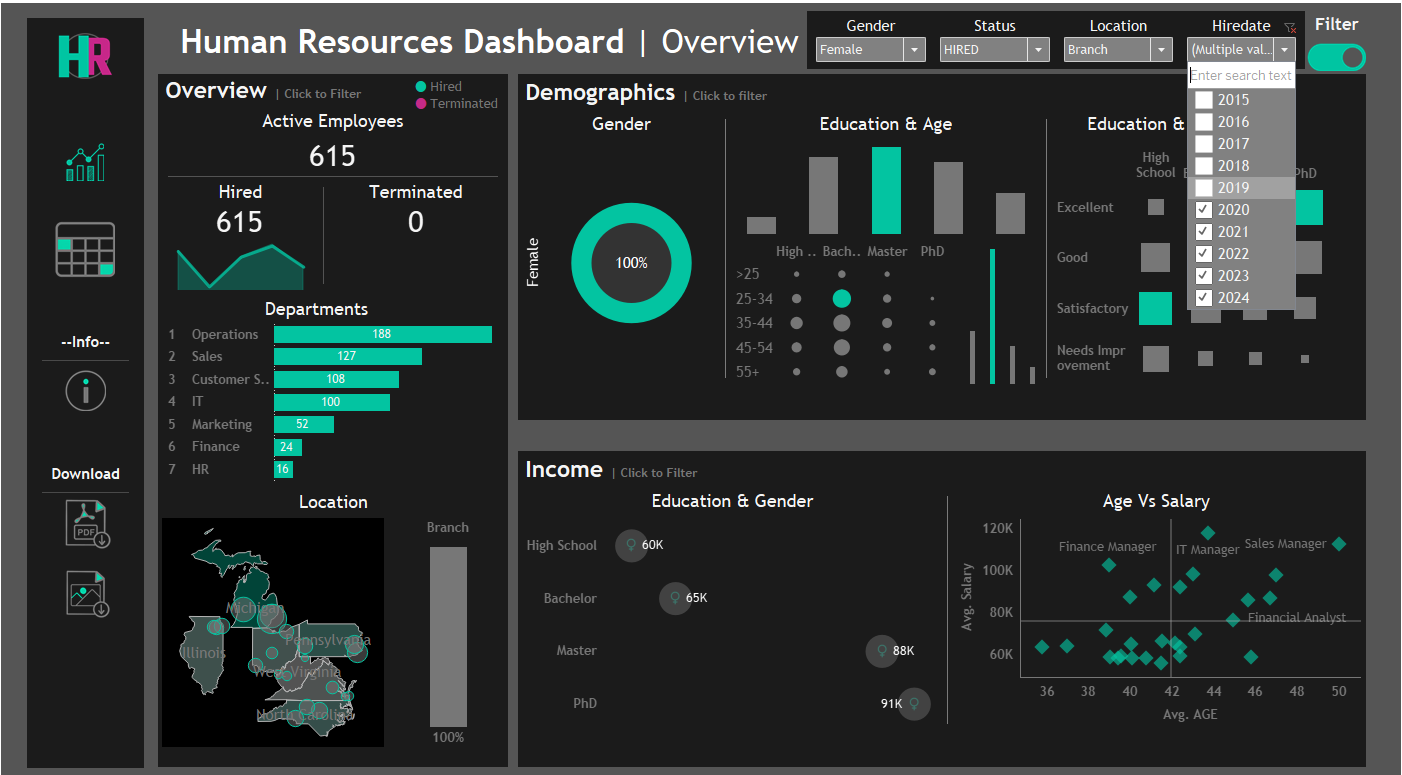

What the dashboard file says about the page in this screenshot:
{"tool":"tableau","page":{"name":"HR | Summary (3)","canvas":[1400,800],"ordinal":3},"visuals":[{"type":"blank","box":[7,7,130,393]},{"type":"text","box":[143,7,676,64]},{"type":"blank","box":[819,7,536,64]},{"type":"text","box":[149,77,352,32]},{"type":"text","box":[509,79,838,35]},{"type":"text","box":[149,109,352,29]},{"type":"text","box":[511,116,207,29]},{"type":"blank","box":[718,116,25,246]},{"type":"text","box":[743,116,261,29]},{"type":"blank","box":[1004,116,25,246]},{"type":"text","box":[1029,116,316,29]},{"type":"worksheet","title":"Active","mark":"Text","box":[149,138,352,41]},{"type":"worksheet","title":"Gender","mark":"Pie","rows":["Gender"],"cols":["Calculation_1937110846429085710","Calculation_1937110846429085710"],"box":[511,145,207,217]},{"type":"worksheet","title":"Age Group","mark":"Bar","rows":["Calculation_1937110846402056192"],"cols":["Calculation_1937110846440509456"],"box":[743,145,261,100]},{"type":"worksheet","title":"Education VS Performance","mark":"Square","rows":["Performance Rating"],"cols":["Education Level"],"box":[1029,145,316,217]},{"type":"blank","box":[149,179,352,25]},{"type":"text","box":[151,206,165,29]},{"type":"blank","box":[316,206,17,113]},{"type":"text","box":[333,206,166,29]},{"type":"worksheet","title":"HIRED","mark":"Text","box":[151,235,165,32]},{"type":"worksheet","title":"Terminated","mark":"Text","box":[333,235,166,32]},{"type":"worksheet","title":"Age VS Education","mark":"Pie","rows":["Calculation_1937110846440509456"],"cols":["Education Level"],"box":[743,245,152.5,117]},{"type":"worksheet","title":"Education Level","mark":"Bar","rows":["Calculation_1937110846402056192"],"cols":["Education Level"],"box":[895.5,245,108.5,117]},{"type":"worksheet","title":"Hired by Years","mark":"Line","rows":["Calculation_1937110846402056192","Calculation_1937110846402056192"],"cols":["Hiredate"],"box":[151,267,165,52]},{"type":"worksheet","title":"Terminated by Years","mark":"Line","rows":["Calculation_1937110846402326529","Calculation_1937110846402326529"],"cols":["Termdate"],"box":[333,267,166,52]},{"type":"blank","box":[149,321,118.7,25]},{"type":"text","box":[267.7,321,114.7,25]},{"type":"blank","box":[382.3,321,118.7,25]},{"type":"worksheet","title":"Departments","mark":"Bar","rows":["Calculation_1937110846415405062","Department"],"cols":["Calculation_1937110846402056192"],"box":[149,346,352,166]},{"type":"blank","box":[7,400,130,393]},{"type":"text","box":[509,415,838,35]},{"type":"text","box":[511,452,410.5,29]},{"type":"blank","box":[921.5,452,25,220]},{"type":"text","box":[946.5,452,398.5,29]},{"type":"worksheet","title":"Education VS Gender Level","mark":"Square","rows":["Education Level"],"cols":["Salary","Salary"],"box":[511,481,410.5,191]},{"type":"worksheet","title":"Age VS Salary","mark":"Shape","rows":["Salary"],"cols":["Calculation_1937110846439919631"],"box":[946.5,481,398.5,191]},{"type":"blank","box":[149,512,120,24]},{"type":"text","box":[269,512,112,24]},{"type":"blank","box":[381,512,120,24]},{"type":"worksheet","title":"MAP STATE","mark":"Automatic","box":[149,536,292,222]},{"type":"worksheet","title":"Location","mark":"Bar","rows":["Calculation_1937110846402056192"],"cols":["Calculation_1937110846422126599","Calculation1"],"box":[441,536,60,222]}]}

Visuals, with their boxes on the page's 1400x800 design canvas (x1, y1, x2, y2). These are canvas units, not pixel positions in the 1402x775 screenshot, which may show the page scaled, cropped or inside an application window:
blank: [x1=7, y1=7, x2=137, y2=400]
text: [x1=143, y1=7, x2=819, y2=71]
blank: [x1=819, y1=7, x2=1355, y2=71]
text: [x1=149, y1=77, x2=501, y2=109]
text: [x1=509, y1=79, x2=1347, y2=114]
text: [x1=149, y1=109, x2=501, y2=138]
text: [x1=511, y1=116, x2=718, y2=145]
blank: [x1=718, y1=116, x2=743, y2=362]
text: [x1=743, y1=116, x2=1004, y2=145]
blank: [x1=1004, y1=116, x2=1029, y2=362]
text: [x1=1029, y1=116, x2=1345, y2=145]
"Active" worksheet (Text marks): [x1=149, y1=138, x2=501, y2=179]
"Gender" worksheet (Pie marks): [x1=511, y1=145, x2=718, y2=362]
"Age Group" worksheet (Bar marks): [x1=743, y1=145, x2=1004, y2=245]
"Education VS Performance" worksheet (Square marks): [x1=1029, y1=145, x2=1345, y2=362]
blank: [x1=149, y1=179, x2=501, y2=204]
text: [x1=151, y1=206, x2=316, y2=235]
blank: [x1=316, y1=206, x2=333, y2=319]
text: [x1=333, y1=206, x2=499, y2=235]
"HIRED" worksheet (Text marks): [x1=151, y1=235, x2=316, y2=267]
"Terminated" worksheet (Text marks): [x1=333, y1=235, x2=499, y2=267]
"Age VS Education" worksheet (Pie marks): [x1=743, y1=245, x2=896, y2=362]
"Education Level" worksheet (Bar marks): [x1=896, y1=245, x2=1004, y2=362]
"Hired by Years" worksheet (Line marks): [x1=151, y1=267, x2=316, y2=319]
"Terminated by Years" worksheet (Line marks): [x1=333, y1=267, x2=499, y2=319]
blank: [x1=149, y1=321, x2=268, y2=346]
text: [x1=268, y1=321, x2=382, y2=346]
blank: [x1=382, y1=321, x2=501, y2=346]
"Departments" worksheet (Bar marks): [x1=149, y1=346, x2=501, y2=512]
blank: [x1=7, y1=400, x2=137, y2=793]
text: [x1=509, y1=415, x2=1347, y2=450]
text: [x1=511, y1=452, x2=922, y2=481]
blank: [x1=922, y1=452, x2=946, y2=672]
text: [x1=946, y1=452, x2=1345, y2=481]
"Education VS Gender Level" worksheet (Square marks): [x1=511, y1=481, x2=922, y2=672]
"Age VS Salary" worksheet (Shape marks): [x1=946, y1=481, x2=1345, y2=672]
blank: [x1=149, y1=512, x2=269, y2=536]
text: [x1=269, y1=512, x2=381, y2=536]
blank: [x1=381, y1=512, x2=501, y2=536]
"MAP STATE" worksheet: [x1=149, y1=536, x2=441, y2=758]
"Location" worksheet (Bar marks): [x1=441, y1=536, x2=501, y2=758]
